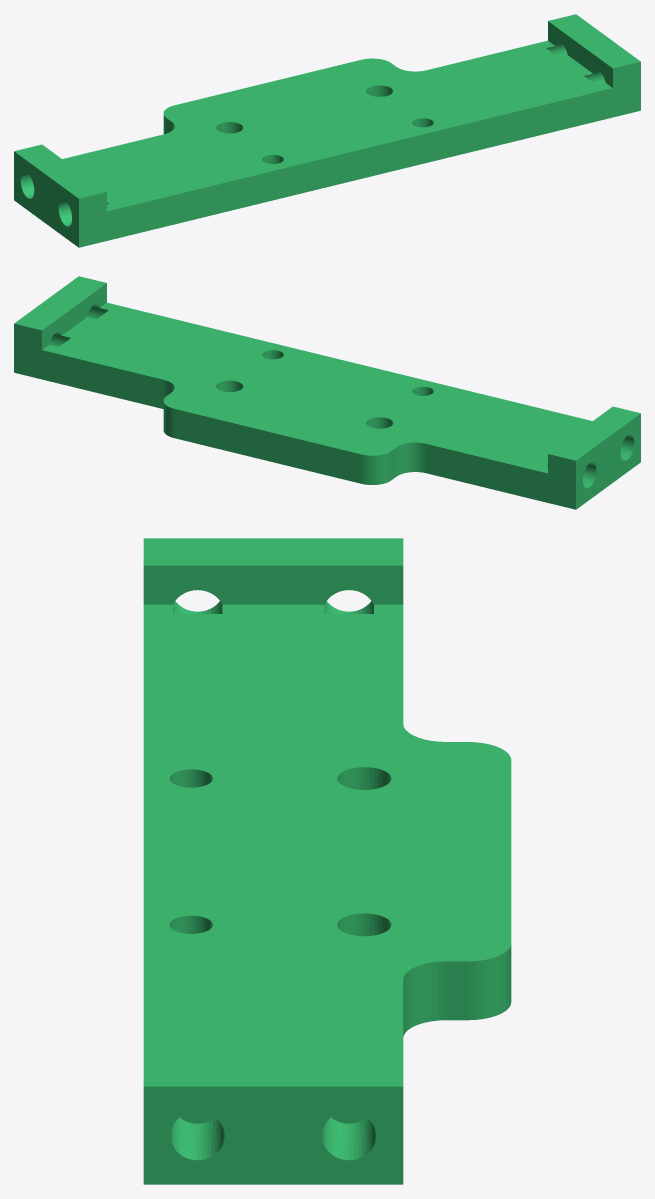
Rendered from MiddleBridge.glb.
The picture shows the model from 3 angles, top to bottom: view 1: azimuth 30°, elevation 25°; view 2: azimuth 150°, elevation 25°; view 3: azimuth 270°, elevation 25°; orthographic projection. The views are drawn at different scales.
Visible parts, largest first — view 1: MiddleBridge.stl; view 2: MiddleBridge.stl; view 3: MiddleBridge.stl.
Part boxes in pixels (box(x1,y1,x2,y2)): MiddleBridge.stl: box(14, 14, 640, 247); MiddleBridge.stl: box(14, 276, 640, 509); MiddleBridge.stl: box(143, 538, 511, 1184).
Bounding box in the file's own units: 60 × 5 × 17.
